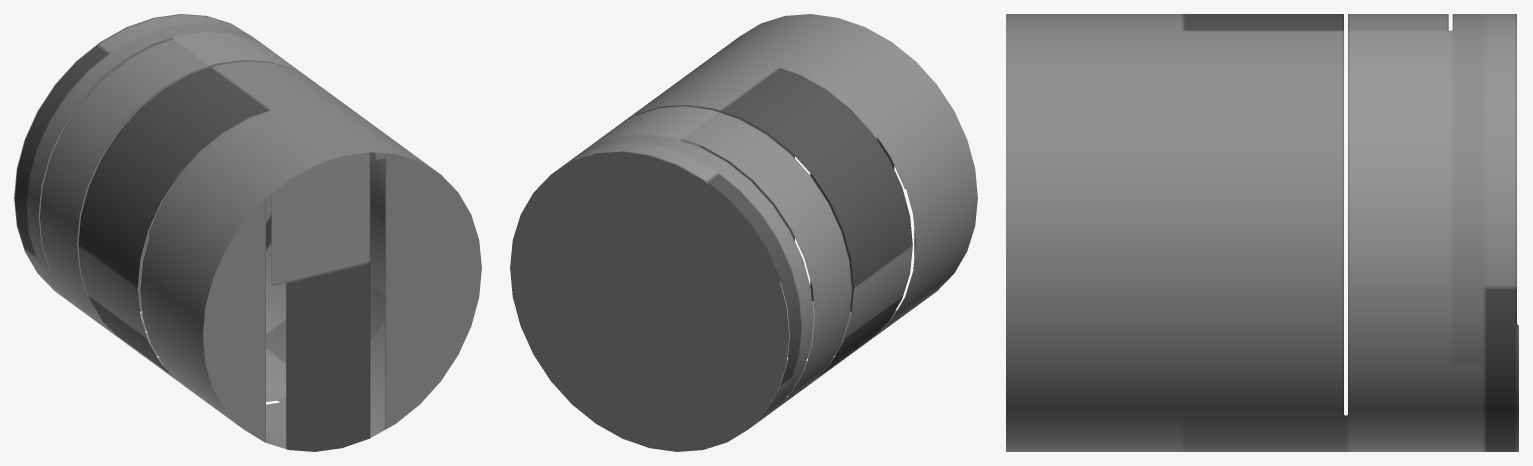
3 views of the same model, side by side, from view 1: azimuth 30°, elevation 25°; view 2: azimuth 150°, elevation 25°; view 3: azimuth 270°, elevation 25° (orthographic). The views are drawn at different scales.
Size of the model in its own units: 0.6762 by 0.6762 by 0.7912.
